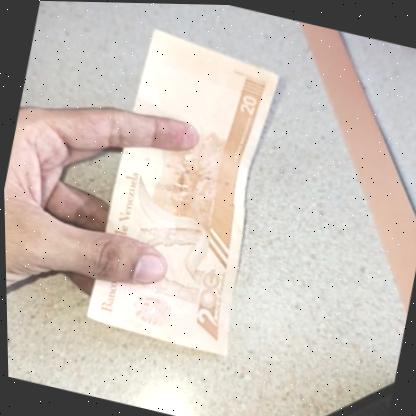twenty-back-vef: (78, 22, 287, 358)
